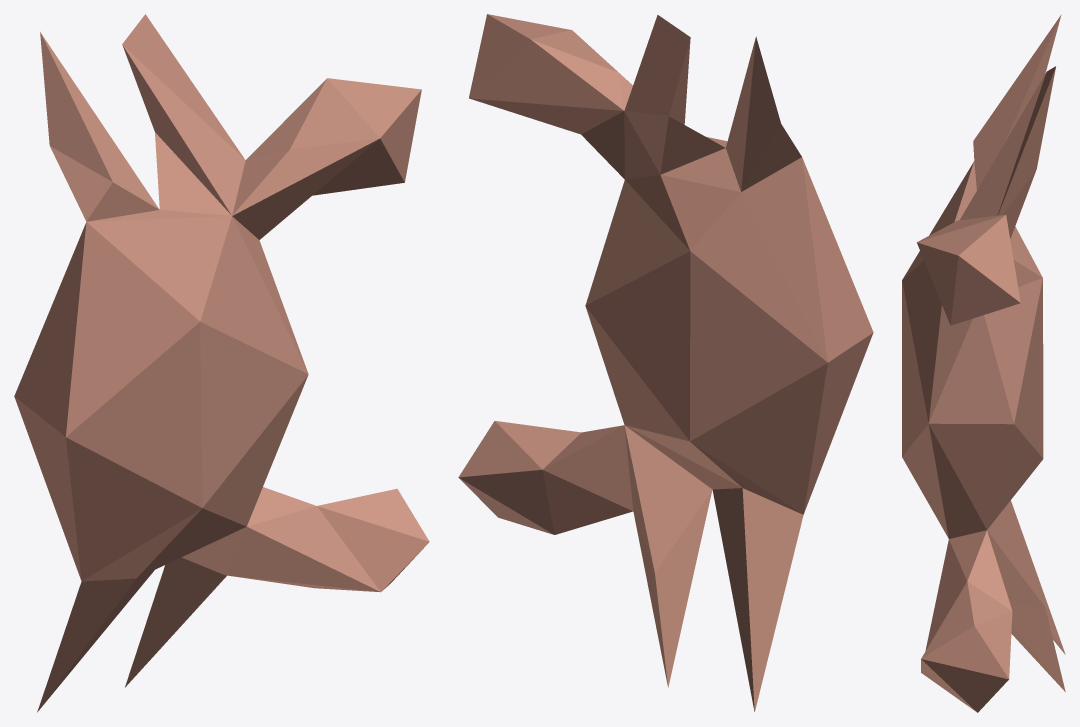
The picture shows the model from 3 angles, left to right: view 1: azimuth 30°, elevation 25°; view 2: azimuth 150°, elevation 25°; view 3: azimuth 270°, elevation 25°; orthographic projection. The views are drawn at different scales.
Parts seen in each view (by area): view 1: part0; view 2: part0; view 3: part0.
Boxes of the visible parts, left/top/right/bottom form: part0: left=14, top=14, right=429, bottom=712; part0: left=458, top=14, right=873, bottom=711; part0: left=902, top=14, right=1065, bottom=712.
Size of the model in its own units: 2.22 by 3.83 by 0.8873.
